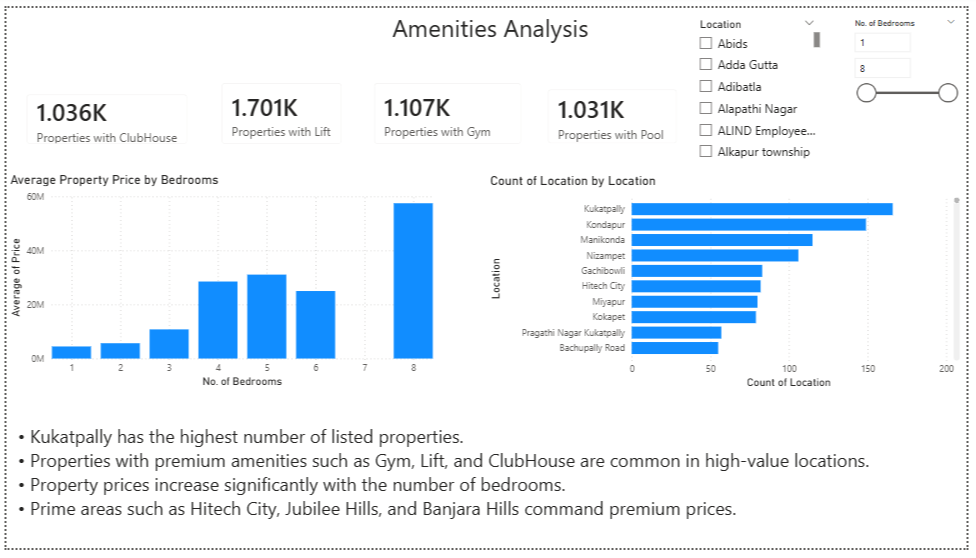

What the dashboard file says about the page in this screenshot:
{"tool":"powerbi","page":{"name":"Property Insights","canvas":[1280,720],"ordinal":1},"visuals":[{"type":"textbox","box":[10,0,1270,56.7],"z":0},{"type":"cardVisual","fields":{"Data":["Hyderabad.Properties with ClubHouse"]},"box":[9.7,98.6,248.6,100],"z":1000},{"type":"cardVisual","fields":{"Data":["Hyderabad.Properties with Lift"]},"box":[269.4,83.3,194.4,115.3],"z":2000},{"type":"cardVisual","fields":{"Data":["Hyderabad.Properties with Pool"]},"box":[704.2,91.7,206.9,106.9],"z":3000},{"type":"cardVisual","fields":{"Data":["Hyderabad.Properties with Gym"]},"box":[473.6,83.3,230.6,115.3],"z":4000},{"type":"clusteredColumnChart","title":"Average Property Price by Bedrooms","fields":{"Category":["Hyderabad.No. of Bedrooms"],"Y":["Avg(Hyderabad.Price)"]},"box":[0,218.1,573.6,293.1],"z":5000},{"type":"clusteredBarChart","fields":{"Category":["Hyderabad.Location"],"Y":["CountNonNull(Hyderabad.Location)"]},"box":[640.3,219.4,636.1,293.1],"z":6000},{"type":"slicer","fields":{"Values":["Hyderabad.Location"]},"box":[911.1,8.3,177.8,197.2],"z":7000},{"type":"slicer","fields":{"Values":["Hyderabad.No. of Bedrooms"]},"box":[1118.1,8.3,158.3,140.3],"z":8000},{"type":"textbox","box":[9.7,550,1252.8,169.4],"z":8001}]}

Visuals, with their boxes in screenshot pixels (x1, y1, x2, y2), scaled from the page's 1280x720 canvas onto the 976x558 screenshot:
textbox: bbox(8, 0, 975, 44)
cardVisual - Hyderabad.Properties with ClubHouse: bbox(7, 76, 197, 154)
cardVisual - Hyderabad.Properties with Lift: bbox(205, 65, 354, 154)
cardVisual - Hyderabad.Properties with Pool: bbox(537, 71, 695, 154)
cardVisual - Hyderabad.Properties with Gym: bbox(361, 65, 537, 154)
"Average Property Price by Bedrooms" clusteredColumnChart: bbox(0, 169, 437, 396)
clusteredBarChart - Hyderabad.Location x CountNonNull(Hyderabad.Location): bbox(488, 170, 973, 397)
slicer - Hyderabad.Location: bbox(695, 6, 830, 159)
slicer - Hyderabad.No. of Bedrooms: bbox(853, 6, 973, 115)
textbox: bbox(7, 426, 963, 557)
